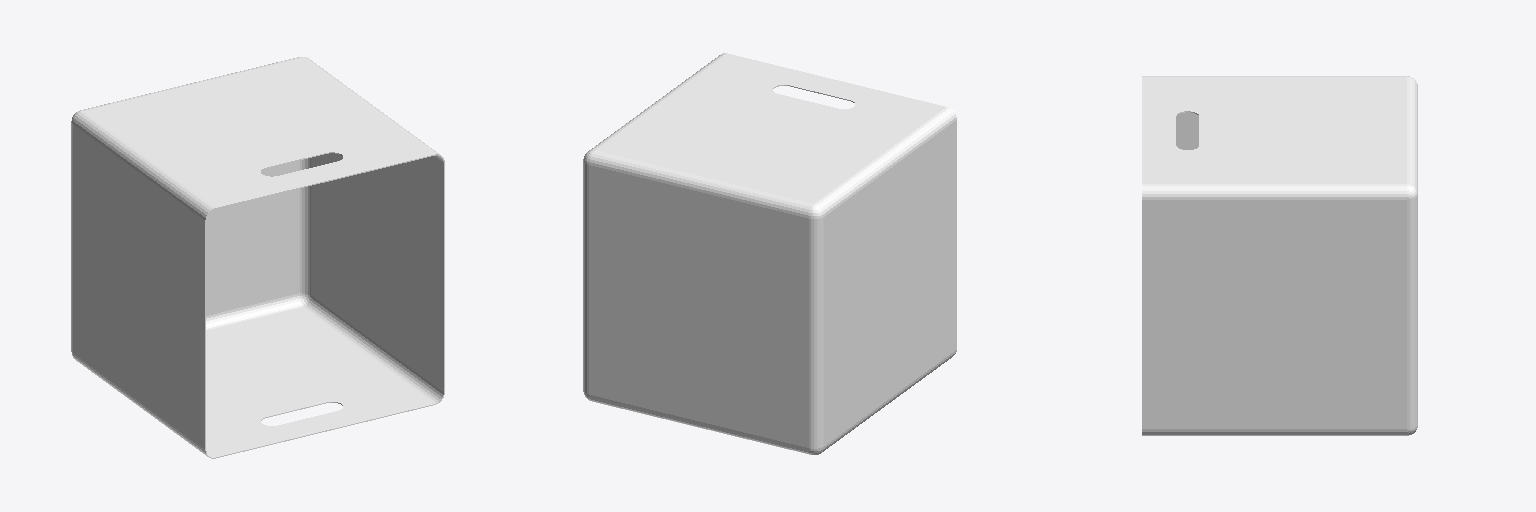
The model's file is dropoffbinwithtexture.obj.
The picture shows the model from 3 angles: view 1: azimuth 30°, elevation 25°; view 2: azimuth 150°, elevation 25°; view 3: azimuth 270°, elevation 25°; orthographic projection.
Parts seen in each view (by area): view 1: LPB_Bin; view 2: LPB_Bin; view 3: LPB_Bin.
Boxes of the visible parts, x1,y1,x2,y2 form: LPB_Bin: [71, 57, 444, 458]; LPB_Bin: [583, 53, 956, 454]; LPB_Bin: [1142, 76, 1417, 435].
Size of the model in its own units: 0.6096 by 0.6096 by 0.6096.